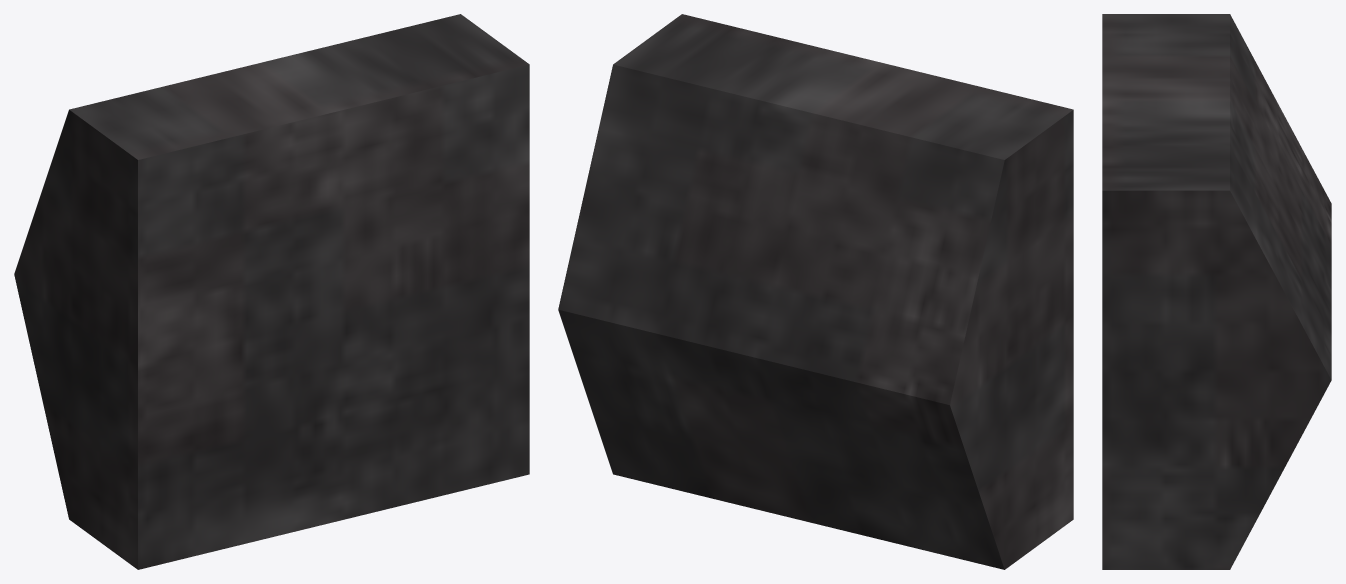
Rendered from balk_7.glb.
3 views of the same model, side by side, from view 1: azimuth 30°, elevation 25°; view 2: azimuth 150°, elevation 25°; view 3: azimuth 270°, elevation 25° (orthographic). The views are drawn at different scales.
Visible parts, largest first — view 1: Куб.002; view 2: Куб.002; view 3: Куб.002.
Boxes of the visible parts, x1,y1,x2,y2 form: Куб.002: (14, 14, 529, 569); Куб.002: (558, 14, 1073, 569); Куб.002: (1102, 14, 1331, 569).
Bounding box in the file's own units: 2.49 × 2.49 × 1.36.
1 material, 1 textured.
